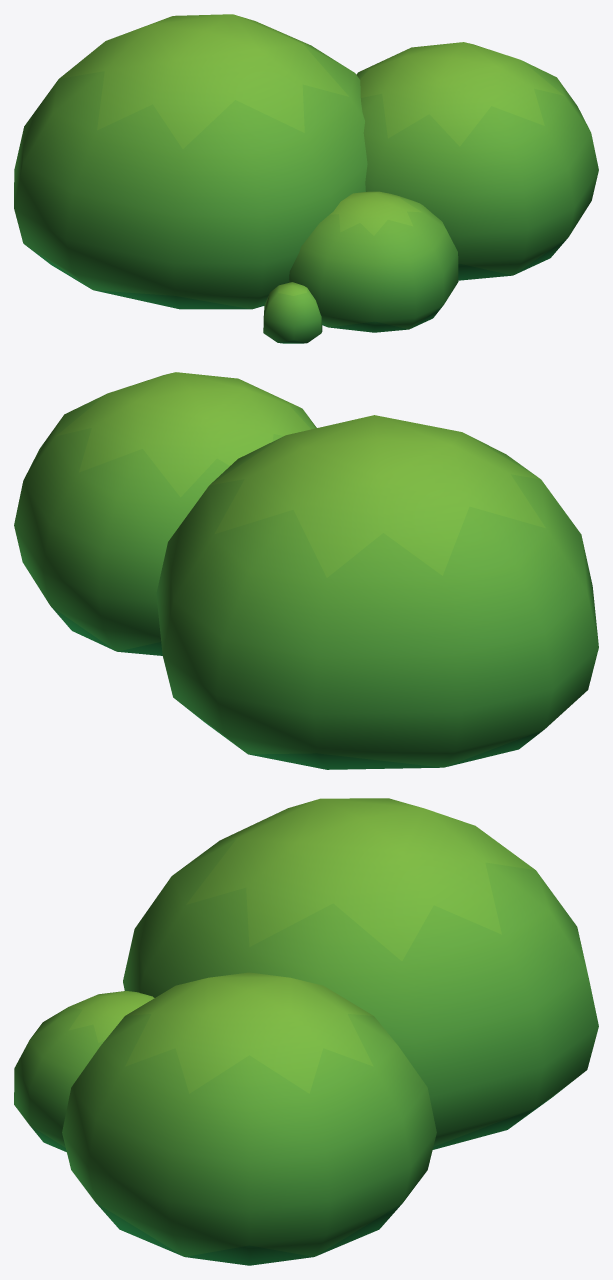
Rendered from Bush_1_F_Color1.gltf.
3 renders of one model, top to bottom at view 1: azimuth 30°, elevation 25°; view 2: azimuth 150°, elevation 25°; view 3: azimuth 270°, elevation 25°, orthographic. The views are drawn at different scales.
Parts seen in each view (by area): view 1: Bush_1_F_Color1; view 2: Bush_1_F_Color1; view 3: Bush_1_F_Color1.
Boxes of the visible parts, x1=… form: Bush_1_F_Color1: x1=14, y1=14, x2=598, y2=343; Bush_1_F_Color1: x1=14, y1=372, x2=598, y2=769; Bush_1_F_Color1: x1=14, y1=798, x2=598, y2=1265.
Bounding box in the file's own units: 2.28 × 0.9937 × 1.88.
1 material, 1 textured.
